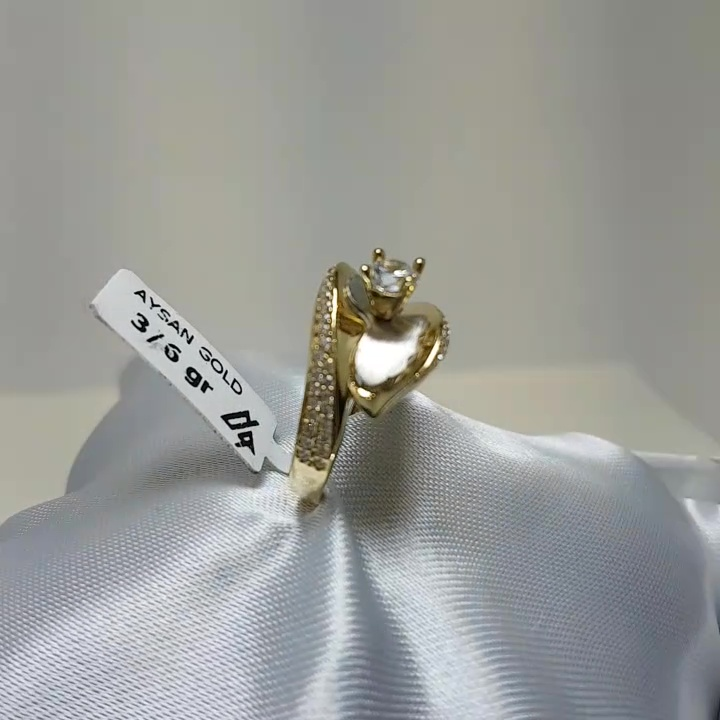Ring 6: (268, 239, 468, 517)
